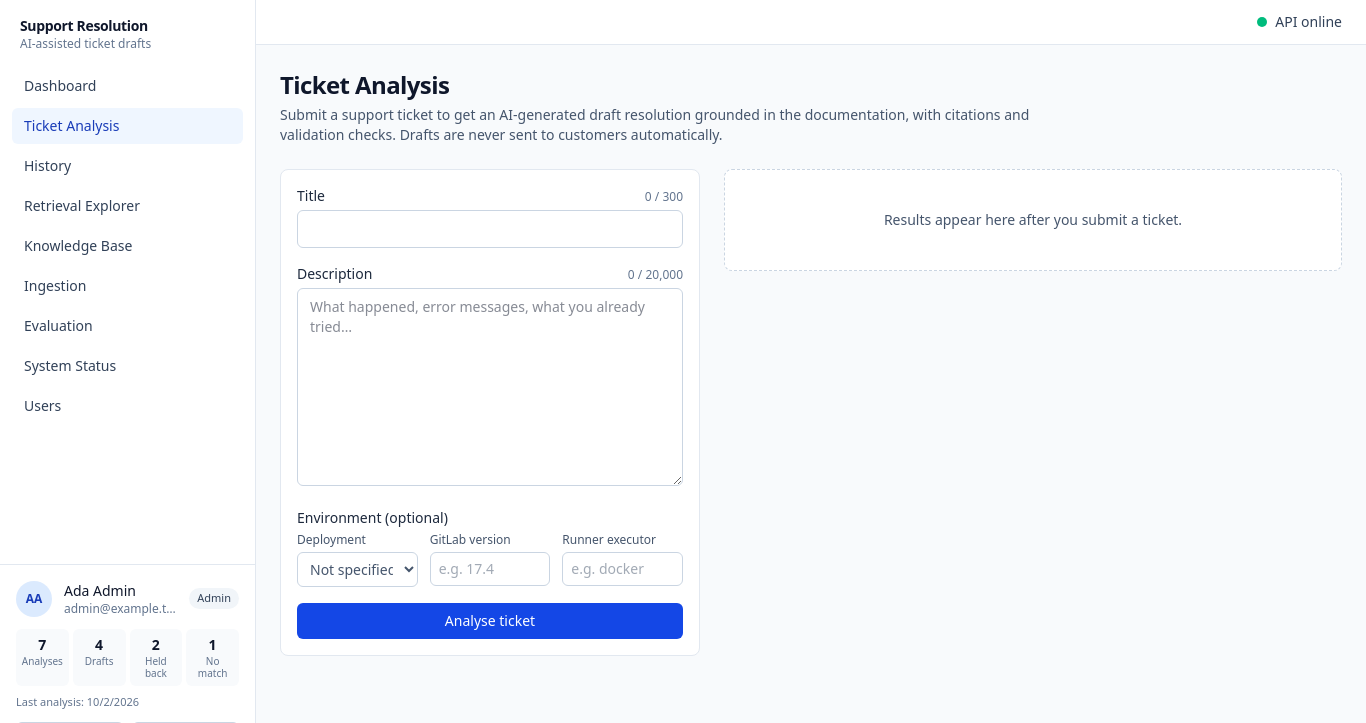
Test: Ticket Analysis › presents insufficient evidence honestly
Step 1. Type "Printer jam" into the field labelled "Title" → (490, 229), box [297,210,683,248]
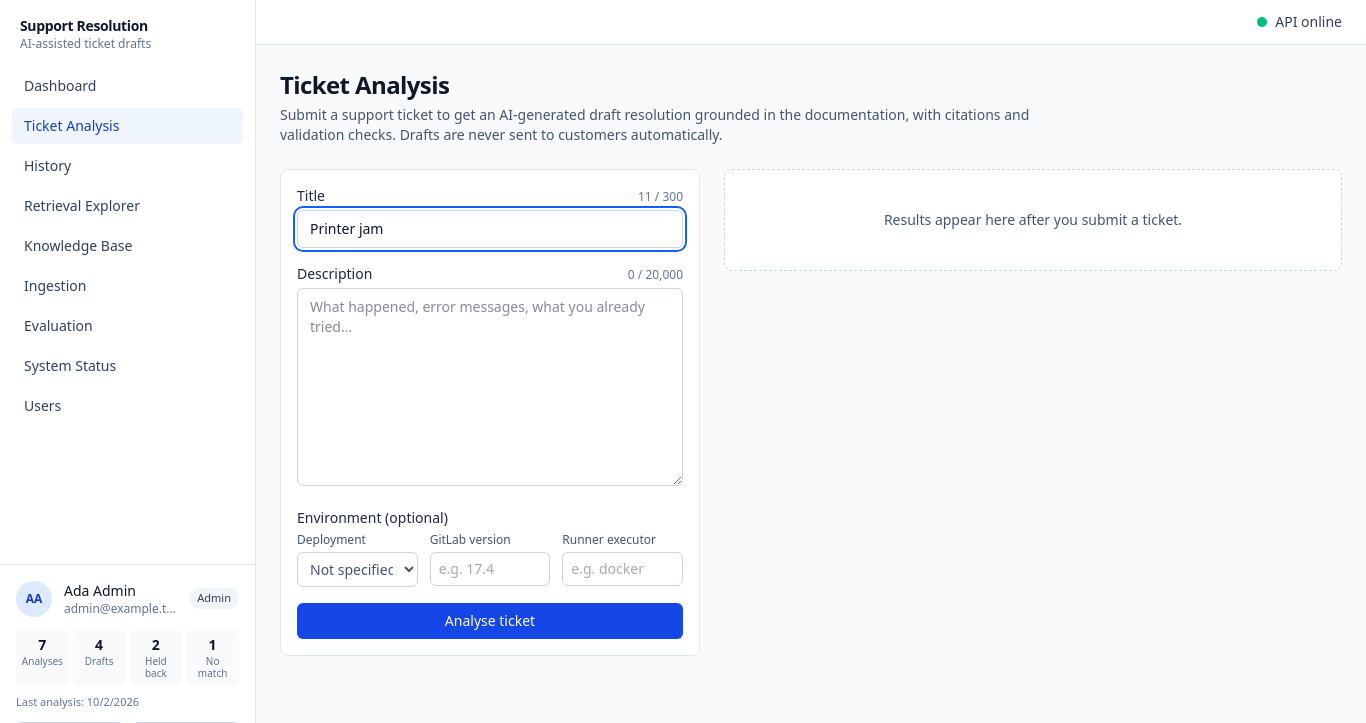
Step 2. Type "The office printer jams on double-sided jobs." into the text box labelled "Description" → (490, 387), box [297,288,683,486]
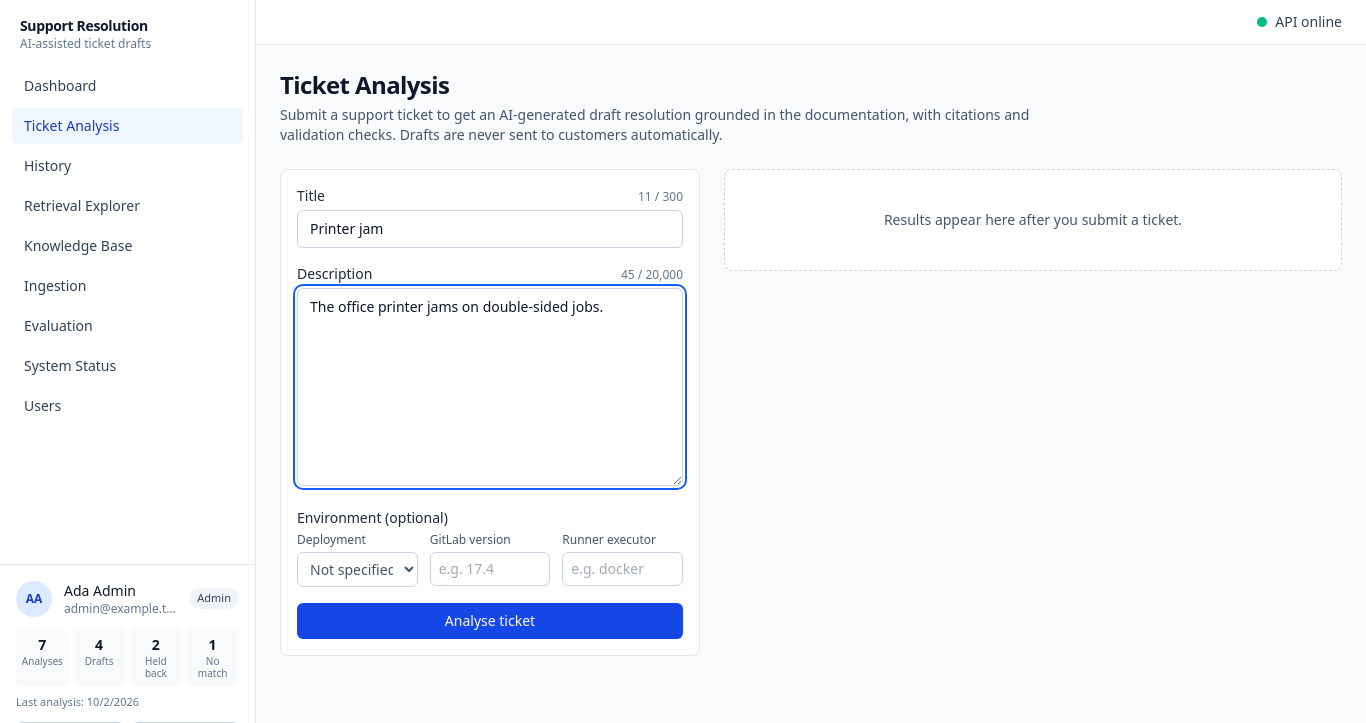
Step 3. Click the button "Analyse ticket" → click(490, 621), box [297,603,683,639]
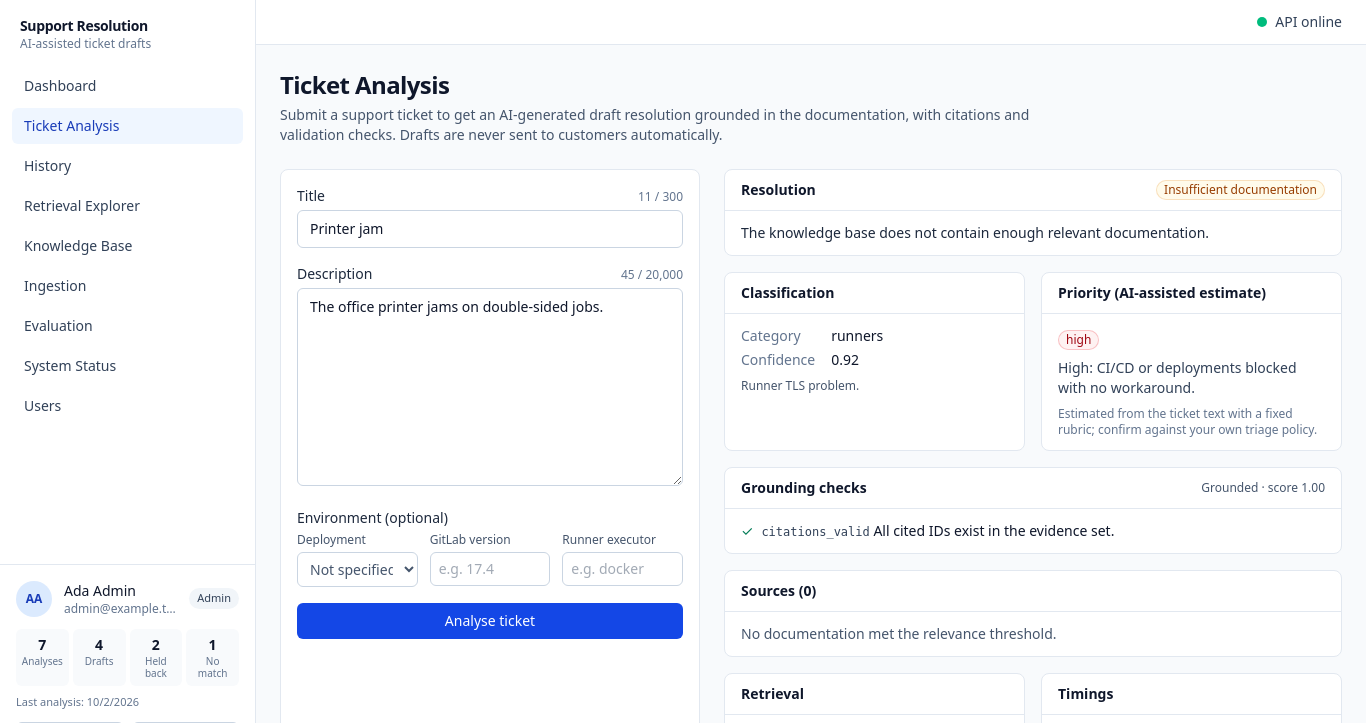
Now the text "Insufficient documentation" is shown, box [1156,180,1325,200]
Now the text "No documentation met the relevance threshold." is shown, box [741,624,1056,643]
